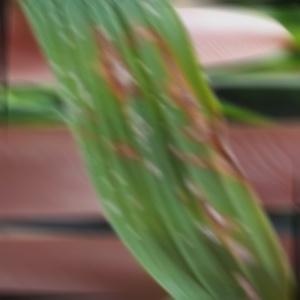Brown_Spot: (158, 60, 201, 114), (97, 46, 138, 98), (99, 132, 142, 179), (215, 233, 266, 267), (206, 147, 250, 184), (196, 201, 248, 232), (57, 118, 107, 150), (175, 115, 224, 147), (185, 218, 224, 252), (228, 271, 271, 300), (177, 174, 207, 198), (183, 148, 206, 175)
